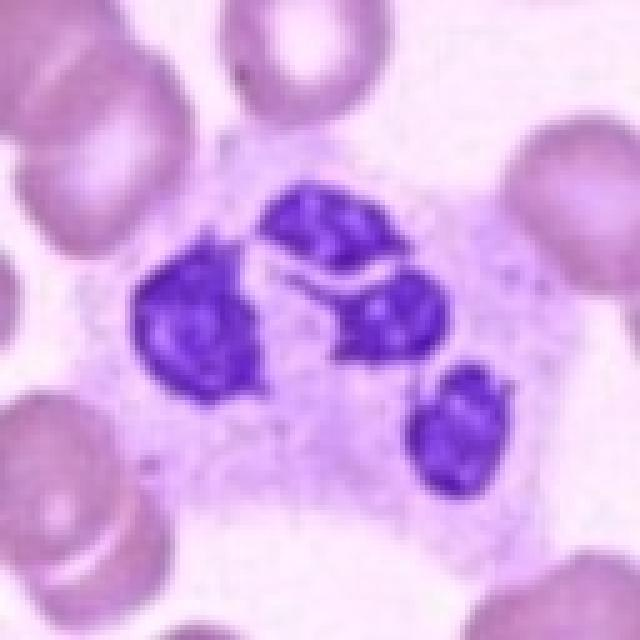neutro: (115, 98, 521, 465)
